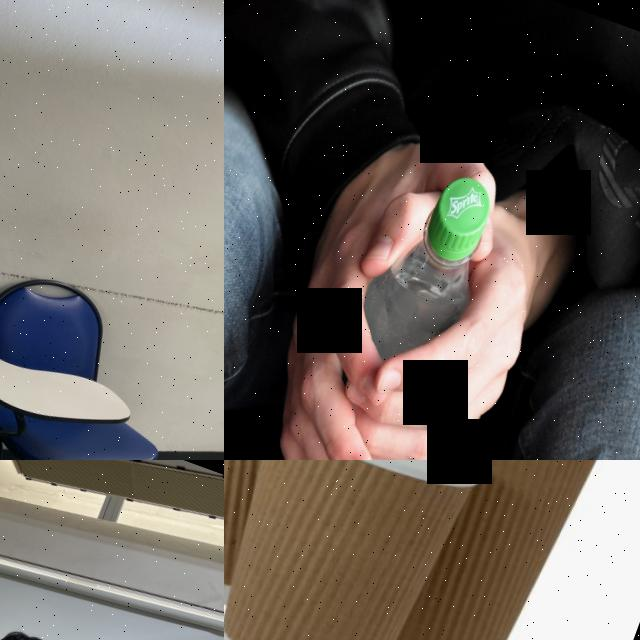bottle: (251, 154, 509, 460)
cup: (302, 460, 640, 640), (224, 460, 490, 640), (224, 460, 404, 635)
